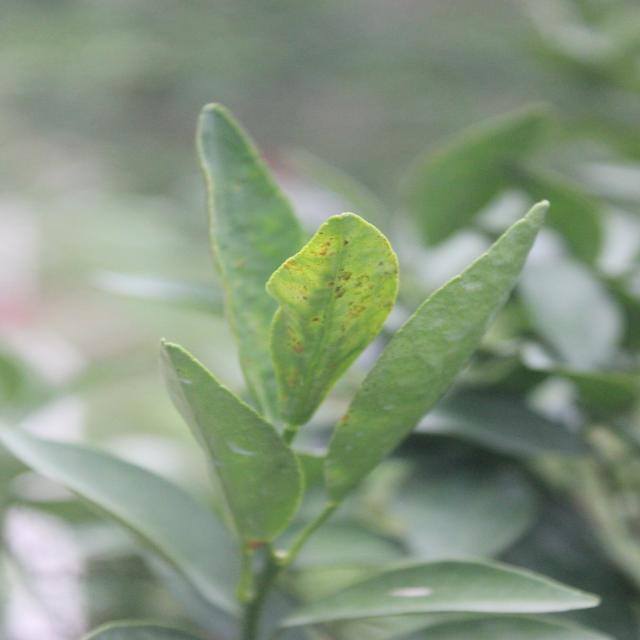canker: (263, 228, 394, 403)
